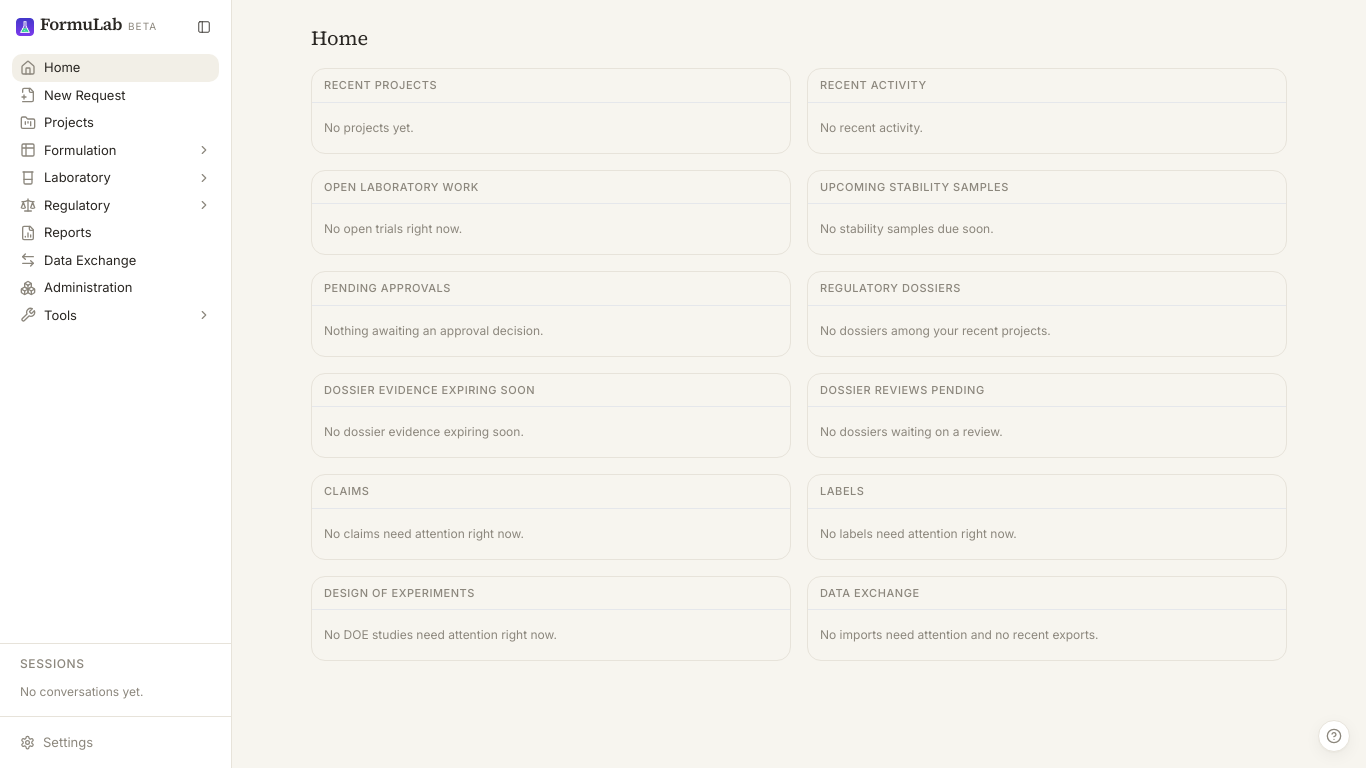
Test: primary navigation › reaches every workspace once its group is expanded
The image size is (1366, 768).
Click the button "Laboratory" at (116, 178), box 12,164 -> 219,192
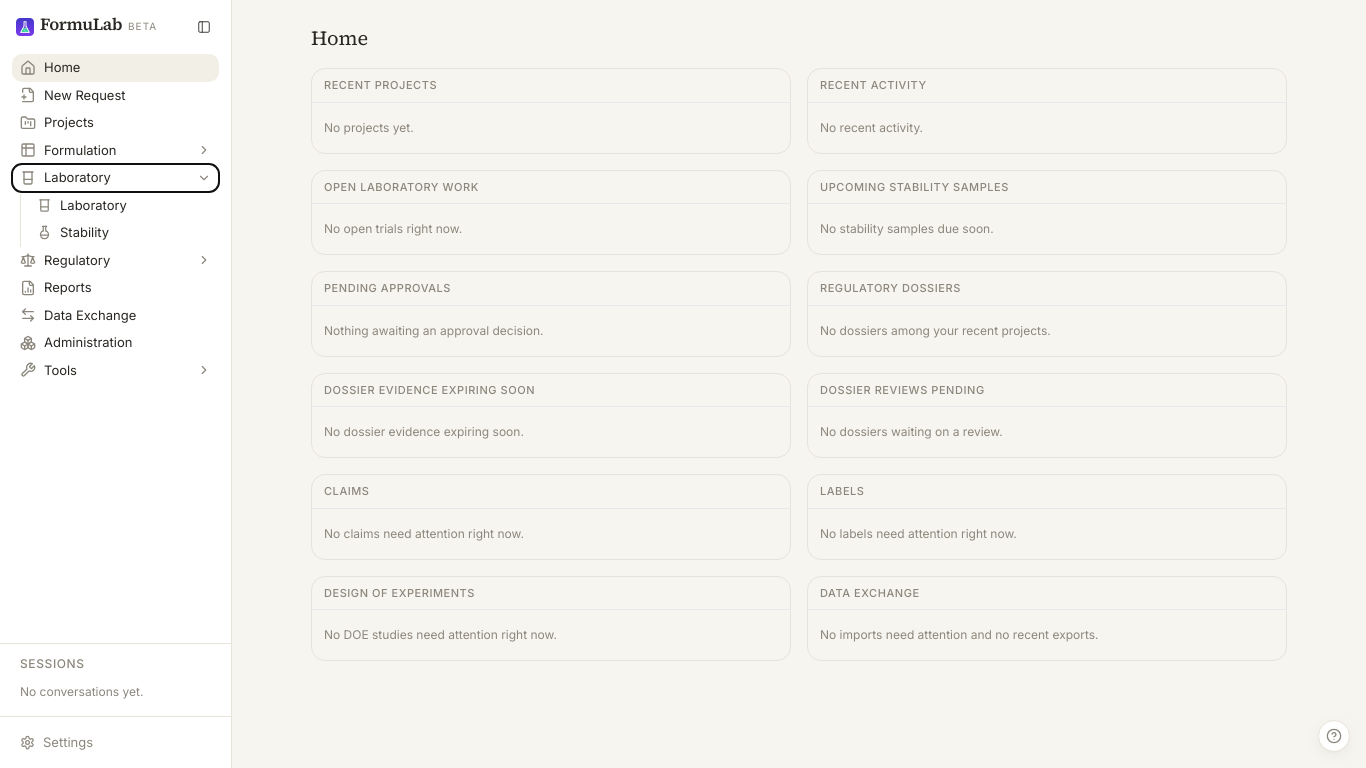
Check: the link "Laboratory" is shown, box 37,196 -> 127,213
Check: the link "Stability" is shown, box 37,224 -> 109,240
Click the button "Formulation" at (116, 150), box 12,136 -> 219,164
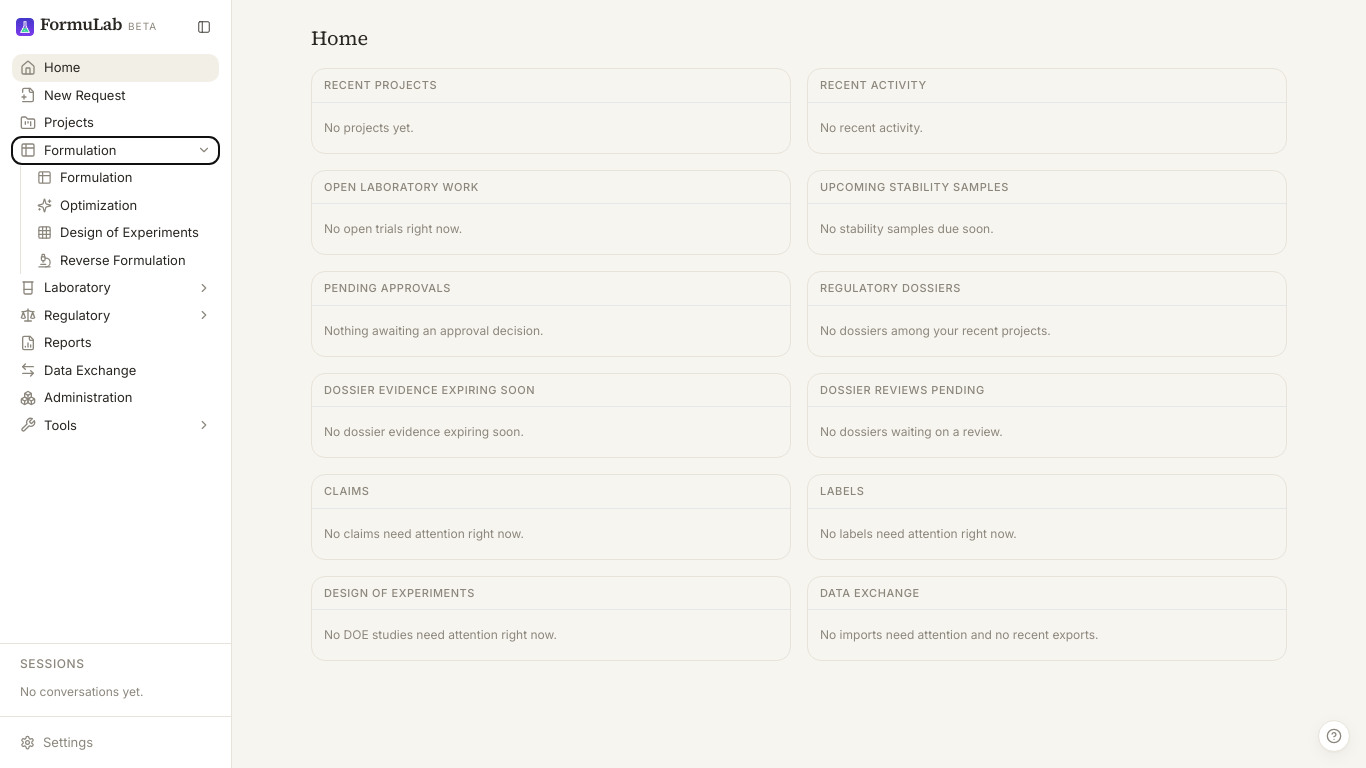
Check: the link "Optimization" is shown, box 37,196 -> 137,213
Click the button "Regulatory" at (116, 315), box 12,302 -> 219,329
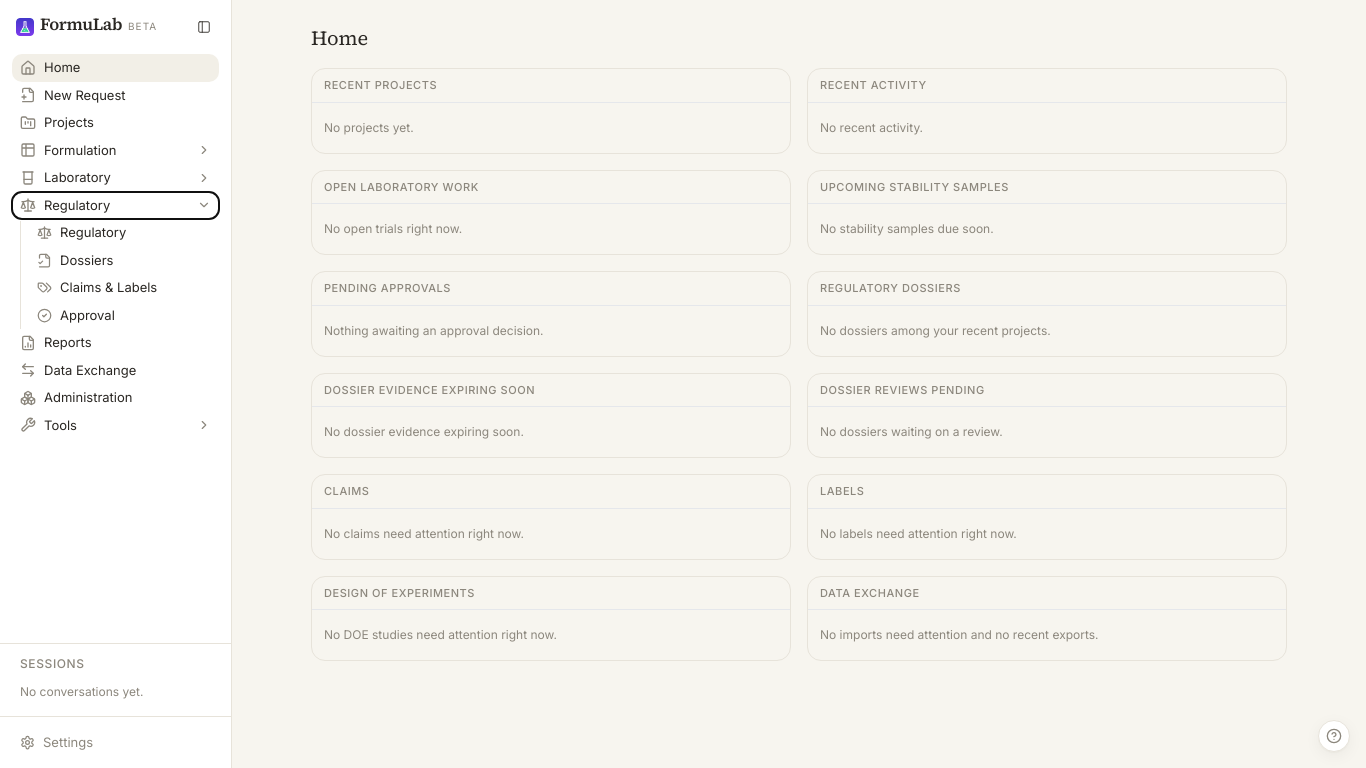
Check: the link "Approval" is shown, box 37,306 -> 115,323
